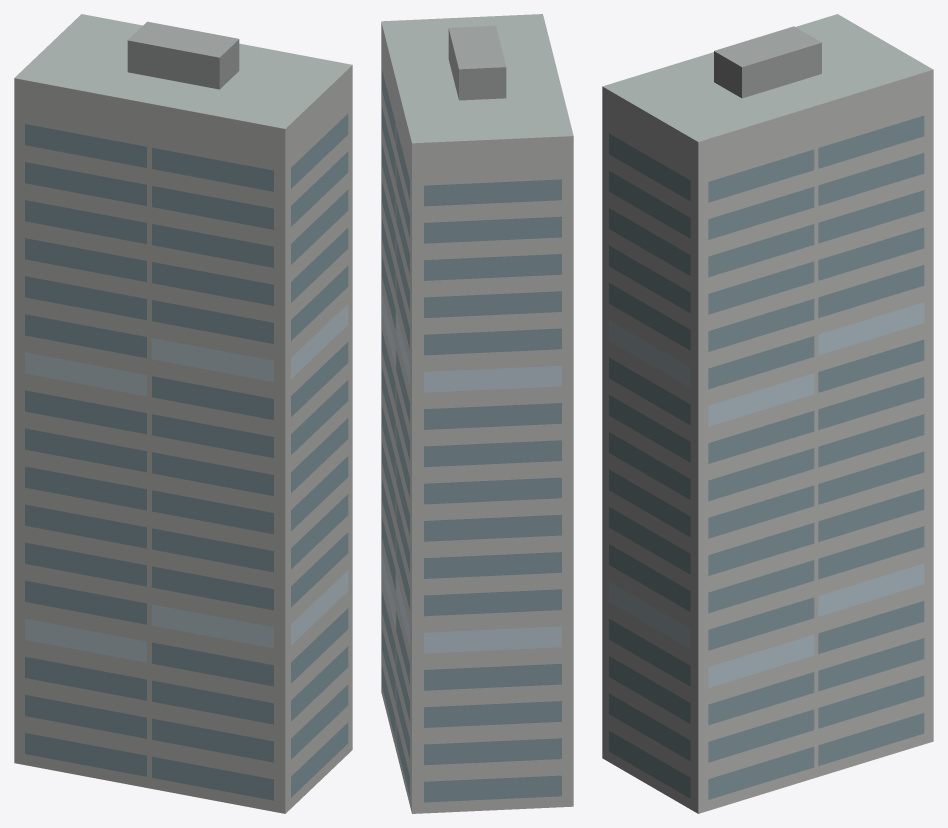
The model's file is fallback-dmc-raemian-e-pyeonhansesang-107.glb.
3 renders of one model, left to right at view 1: azimuth 30°, elevation 25°; view 2: azimuth 150°, elevation 25°; view 3: azimuth 270°, elevation 25°, orthographic. The views are drawn at different scales.
Parts seen in each view (by area): view 1: fallback-dmc-raemian-e-pyeonhansesang-107; view 2: fallback-dmc-raemian-e-pyeonhansesang-107; view 3: fallback-dmc-raemian-e-pyeonhansesang-107.
Part boxes in pixels (left/top/right/bottom): fallback-dmc-raemian-e-pyeonhansesang-107: left=14, top=14, right=352, bottom=813; fallback-dmc-raemian-e-pyeonhansesang-107: left=381, top=14, right=573, bottom=813; fallback-dmc-raemian-e-pyeonhansesang-107: left=602, top=14, right=933, bottom=813.
Bounding box in the file's own units: 21.1 × 54 × 23.05.
